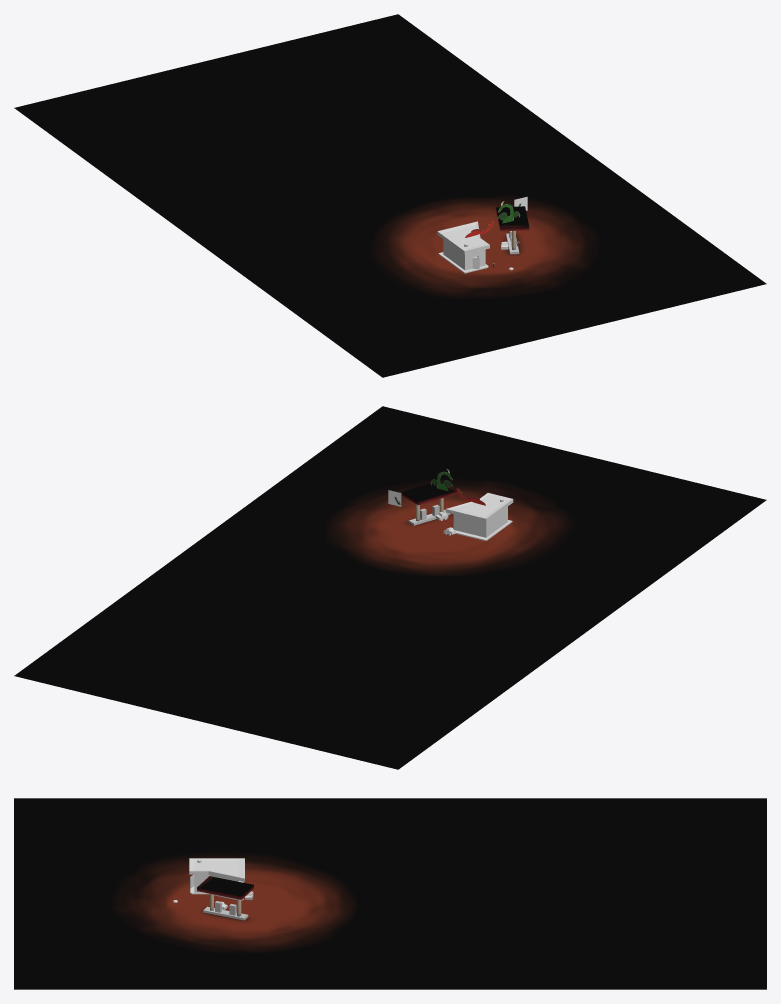
3 renders of one model, top to bottom at view 1: azimuth 30°, elevation 25°; view 2: azimuth 150°, elevation 25°; view 3: azimuth 270°, elevation 25°, orthographic. The views are drawn at different scales.
Visible parts, largest first — view 1: floor_near.002, building.002; view 2: floor_near.002, building.002, carport_roof.001; view 3: floor_near.002, building.002, carport_roof.001, carport_base.002.
Part boxes in pixels (x1,y1,x2,y2): floor_near.002: (14,14,766,377); building.002: (437,221,489,273); floor_near.002: (14,406,766,769); building.002: (445,493,513,540); carport_roof.001: (401,480,457,505); floor_near.002: (14,798,766,989); building.002: (189,858,244,900); carport_roof.001: (197,876,253,899); carport_base.002: (203,901,248,920).
Size of what is drawn, in the model's own units: 21949 by 3080 by 36469.
